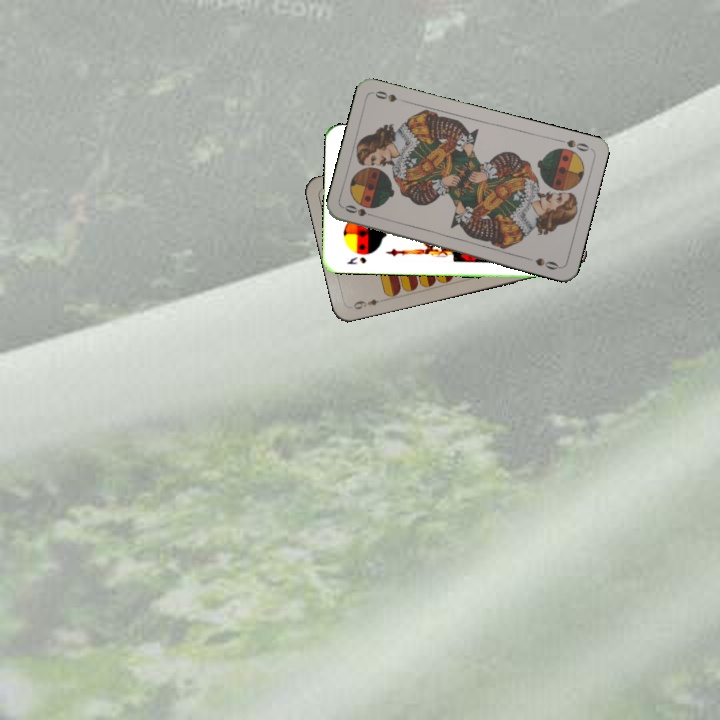E9: (349, 295, 382, 312)
SK: (342, 253, 369, 267)
SO: (340, 201, 380, 220), (553, 135, 592, 154)
